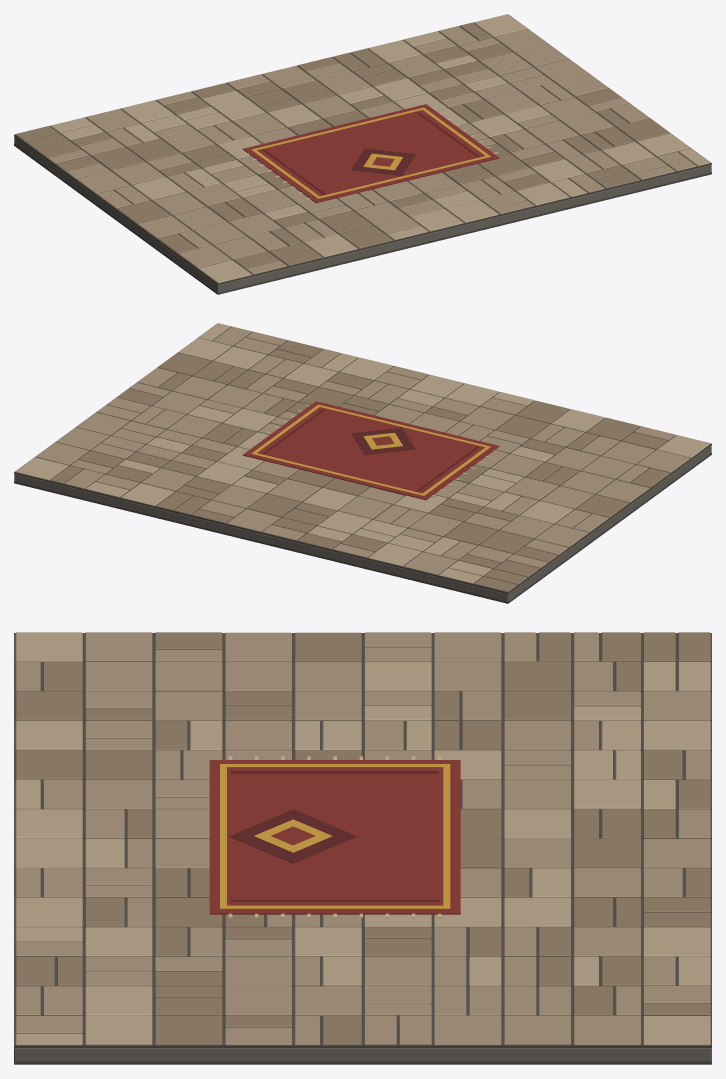
File: Guild Floor.fbx
3 renders of one model, top to bottom at view 1: azimuth 30°, elevation 25°; view 2: azimuth 150°, elevation 25°; view 3: azimuth 270°, elevation 25°, orthographic. The views are drawn at different scales.
Parts seen in each view (by area): view 1: Rug, Mortar, Footing, FootingDark, Medallion, F7_8, F1_7, F2_4, F3_0, F3_7, F8_8, F5_8 (+50 smaller); view 2: Rug, Mortar, Footing, FootingDark, Medallion, F2_4, F3_7, F5_7, F8_8, F1_7, F7_8, F10_8 (+53 smaller); view 3: Rug, Mortar, Footing, FootingDark, Medallion, F1_6, F1_7, F3_7, F5_7, F7_7, F3_0, F5_8 (+183 smaller).
Boxes of the visible parts, box(x1,y1,x2,y2) form: Rug: box(242, 104, 499, 203); Mortar: box(14, 14, 711, 284); Footing: box(14, 136, 711, 292); FootingDark: box(14, 144, 711, 294); Medallion: box(351, 148, 415, 175); F7_8: box(282, 80, 335, 103); F1_7: box(91, 147, 144, 170); F2_4: box(188, 183, 240, 206); F3_0: box(304, 234, 357, 257); F3_7: box(162, 130, 214, 152); F8_8: box(318, 72, 370, 94); F5_8: box(212, 97, 265, 120); Rug: box(242, 401, 499, 500); Mortar: box(14, 323, 711, 593); Footing: box(14, 445, 711, 601); FootingDark: box(14, 453, 711, 603); Medallion: box(351, 427, 415, 454); F2_4: box(505, 477, 558, 500); F3_7: box(409, 513, 462, 536); F5_7: box(338, 496, 391, 519); F8_8: box(212, 485, 265, 508); F1_7: box(479, 530, 532, 553); F7_8: box(247, 494, 300, 516); F10_8: box(141, 468, 194, 491); Rug: box(209, 760, 460, 914); Mortar: box(14, 633, 711, 1048); Footing: box(14, 1048, 711, 1061); FootingDark: box(14, 1061, 711, 1064); Medallion: box(229, 809, 356, 863); F1_6: box(434, 661, 501, 691); F1_7: box(503, 661, 570, 691); F3_7: box(503, 720, 570, 750); F5_7: box(503, 779, 570, 809); F7_7: box(503, 838, 570, 868); F3_0: box(15, 720, 82, 750); F5_8: box(573, 779, 640, 809).
Bounding box in the file's own units: 14 × 0.356 × 10.
